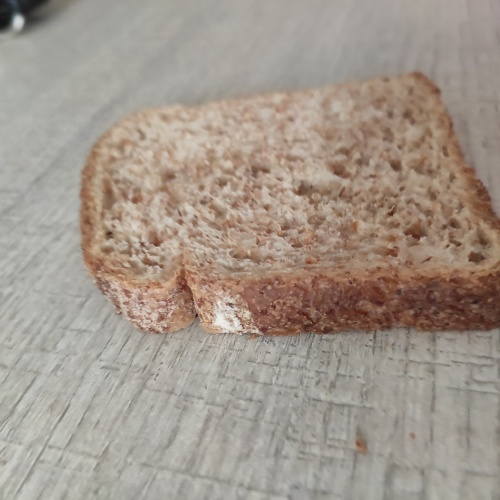pane: (67, 67, 493, 354)
